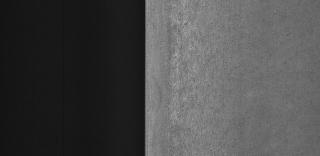silk spot: (164, 12, 226, 156)
